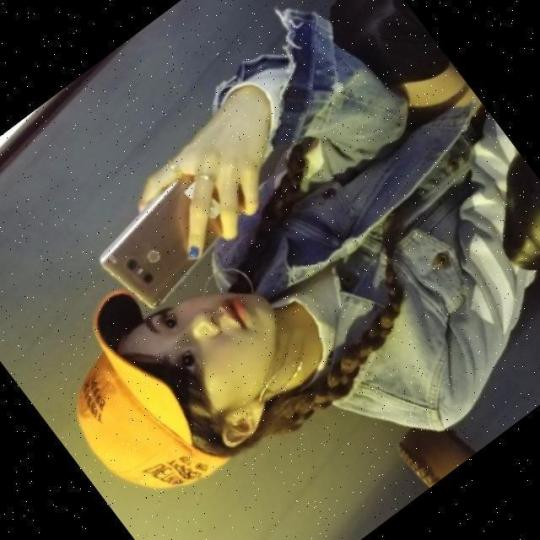phone: (92, 155, 252, 313)
